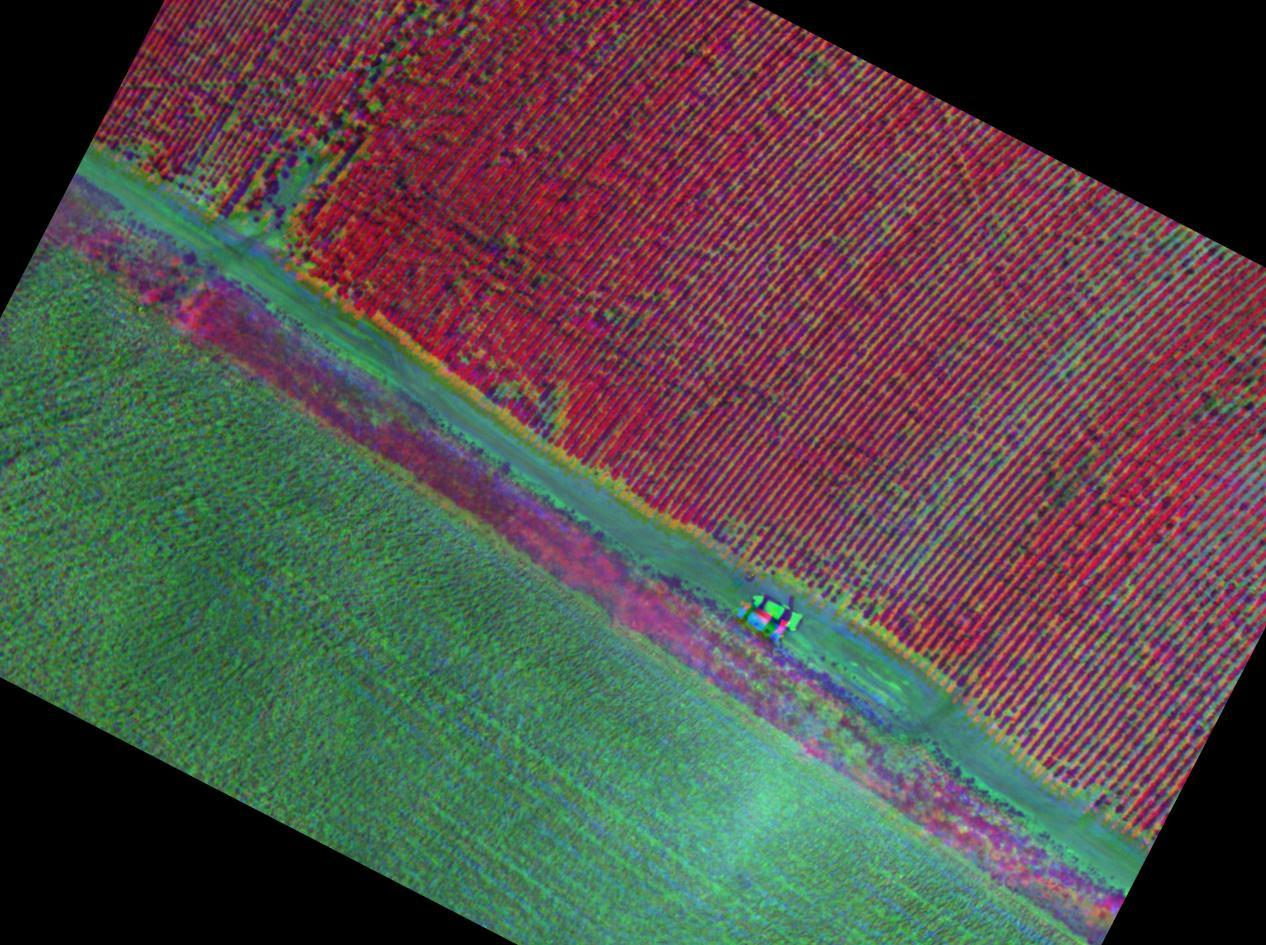dc: (229, 94, 381, 246), (807, 525, 946, 626), (994, 436, 1149, 522), (482, 359, 596, 444)
